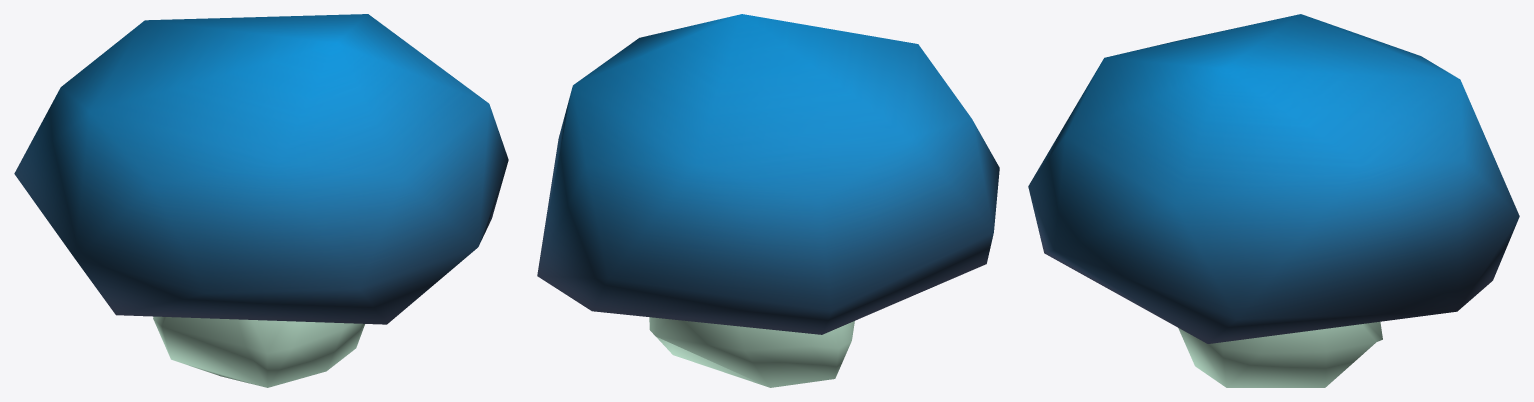
File: mushroomBlue.fbx
The picture shows the model from 3 angles, left to right: view 1: azimuth 30°, elevation 25°; view 2: azimuth 150°, elevation 25°; view 3: azimuth 270°, elevation 25°; orthographic projection.
Visible parts, largest first — view 1: Mushroom1.003; view 2: Mushroom1.003; view 3: Mushroom1.003.
Boxes of the visible parts, box(x1,y1,x2,y2) form: Mushroom1.003: box(14, 14, 508, 387); Mushroom1.003: box(537, 14, 999, 387); Mushroom1.003: box(1028, 14, 1519, 387).
Size of the model in its own units: 399 by 272 by 392.
